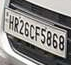2: (19, 19, 24, 35)
5: (40, 28, 46, 44)
6: (52, 33, 58, 49), (24, 21, 29, 37)
8: (59, 34, 65, 52), (46, 30, 52, 47)
C: (29, 23, 35, 40)
F: (35, 25, 40, 41)
H: (8, 15, 14, 30)
R: (14, 15, 20, 33)
